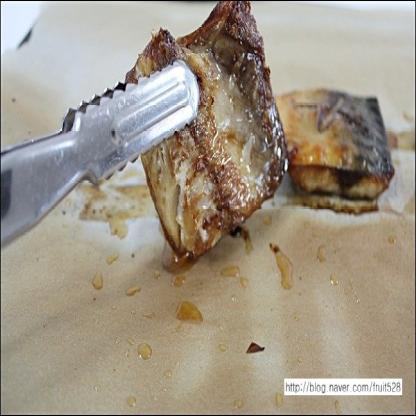Peixe: (134, 5, 286, 273), (279, 71, 398, 211)
